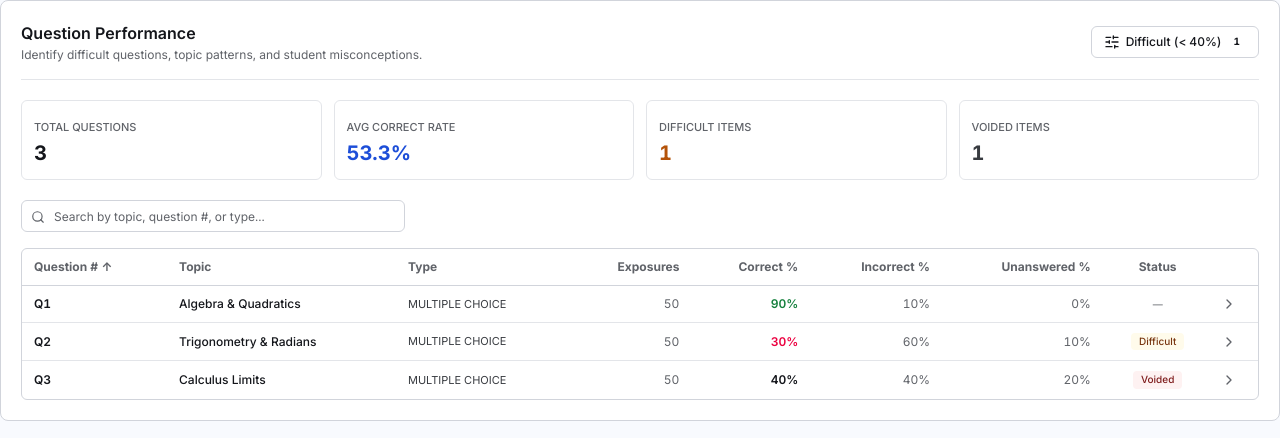
Test: QuestionPerformanceTable › filters to difficult items (< 40% correct) when button is toggled
Click the button "Difficult (< 40%) 1". click: [1175, 42]
box: left=1091, top=26, right=1259, bottom=58
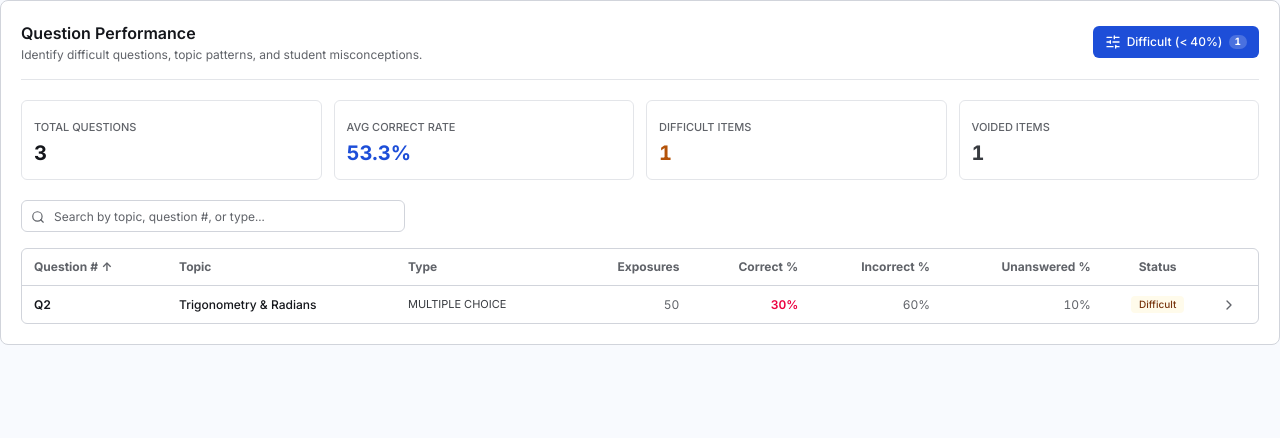
Check: the text "Trigonometry & Radians" is shown, box left=167, top=286, right=396, bottom=323
Check: the text "Algebra & Quadratics" is gone
